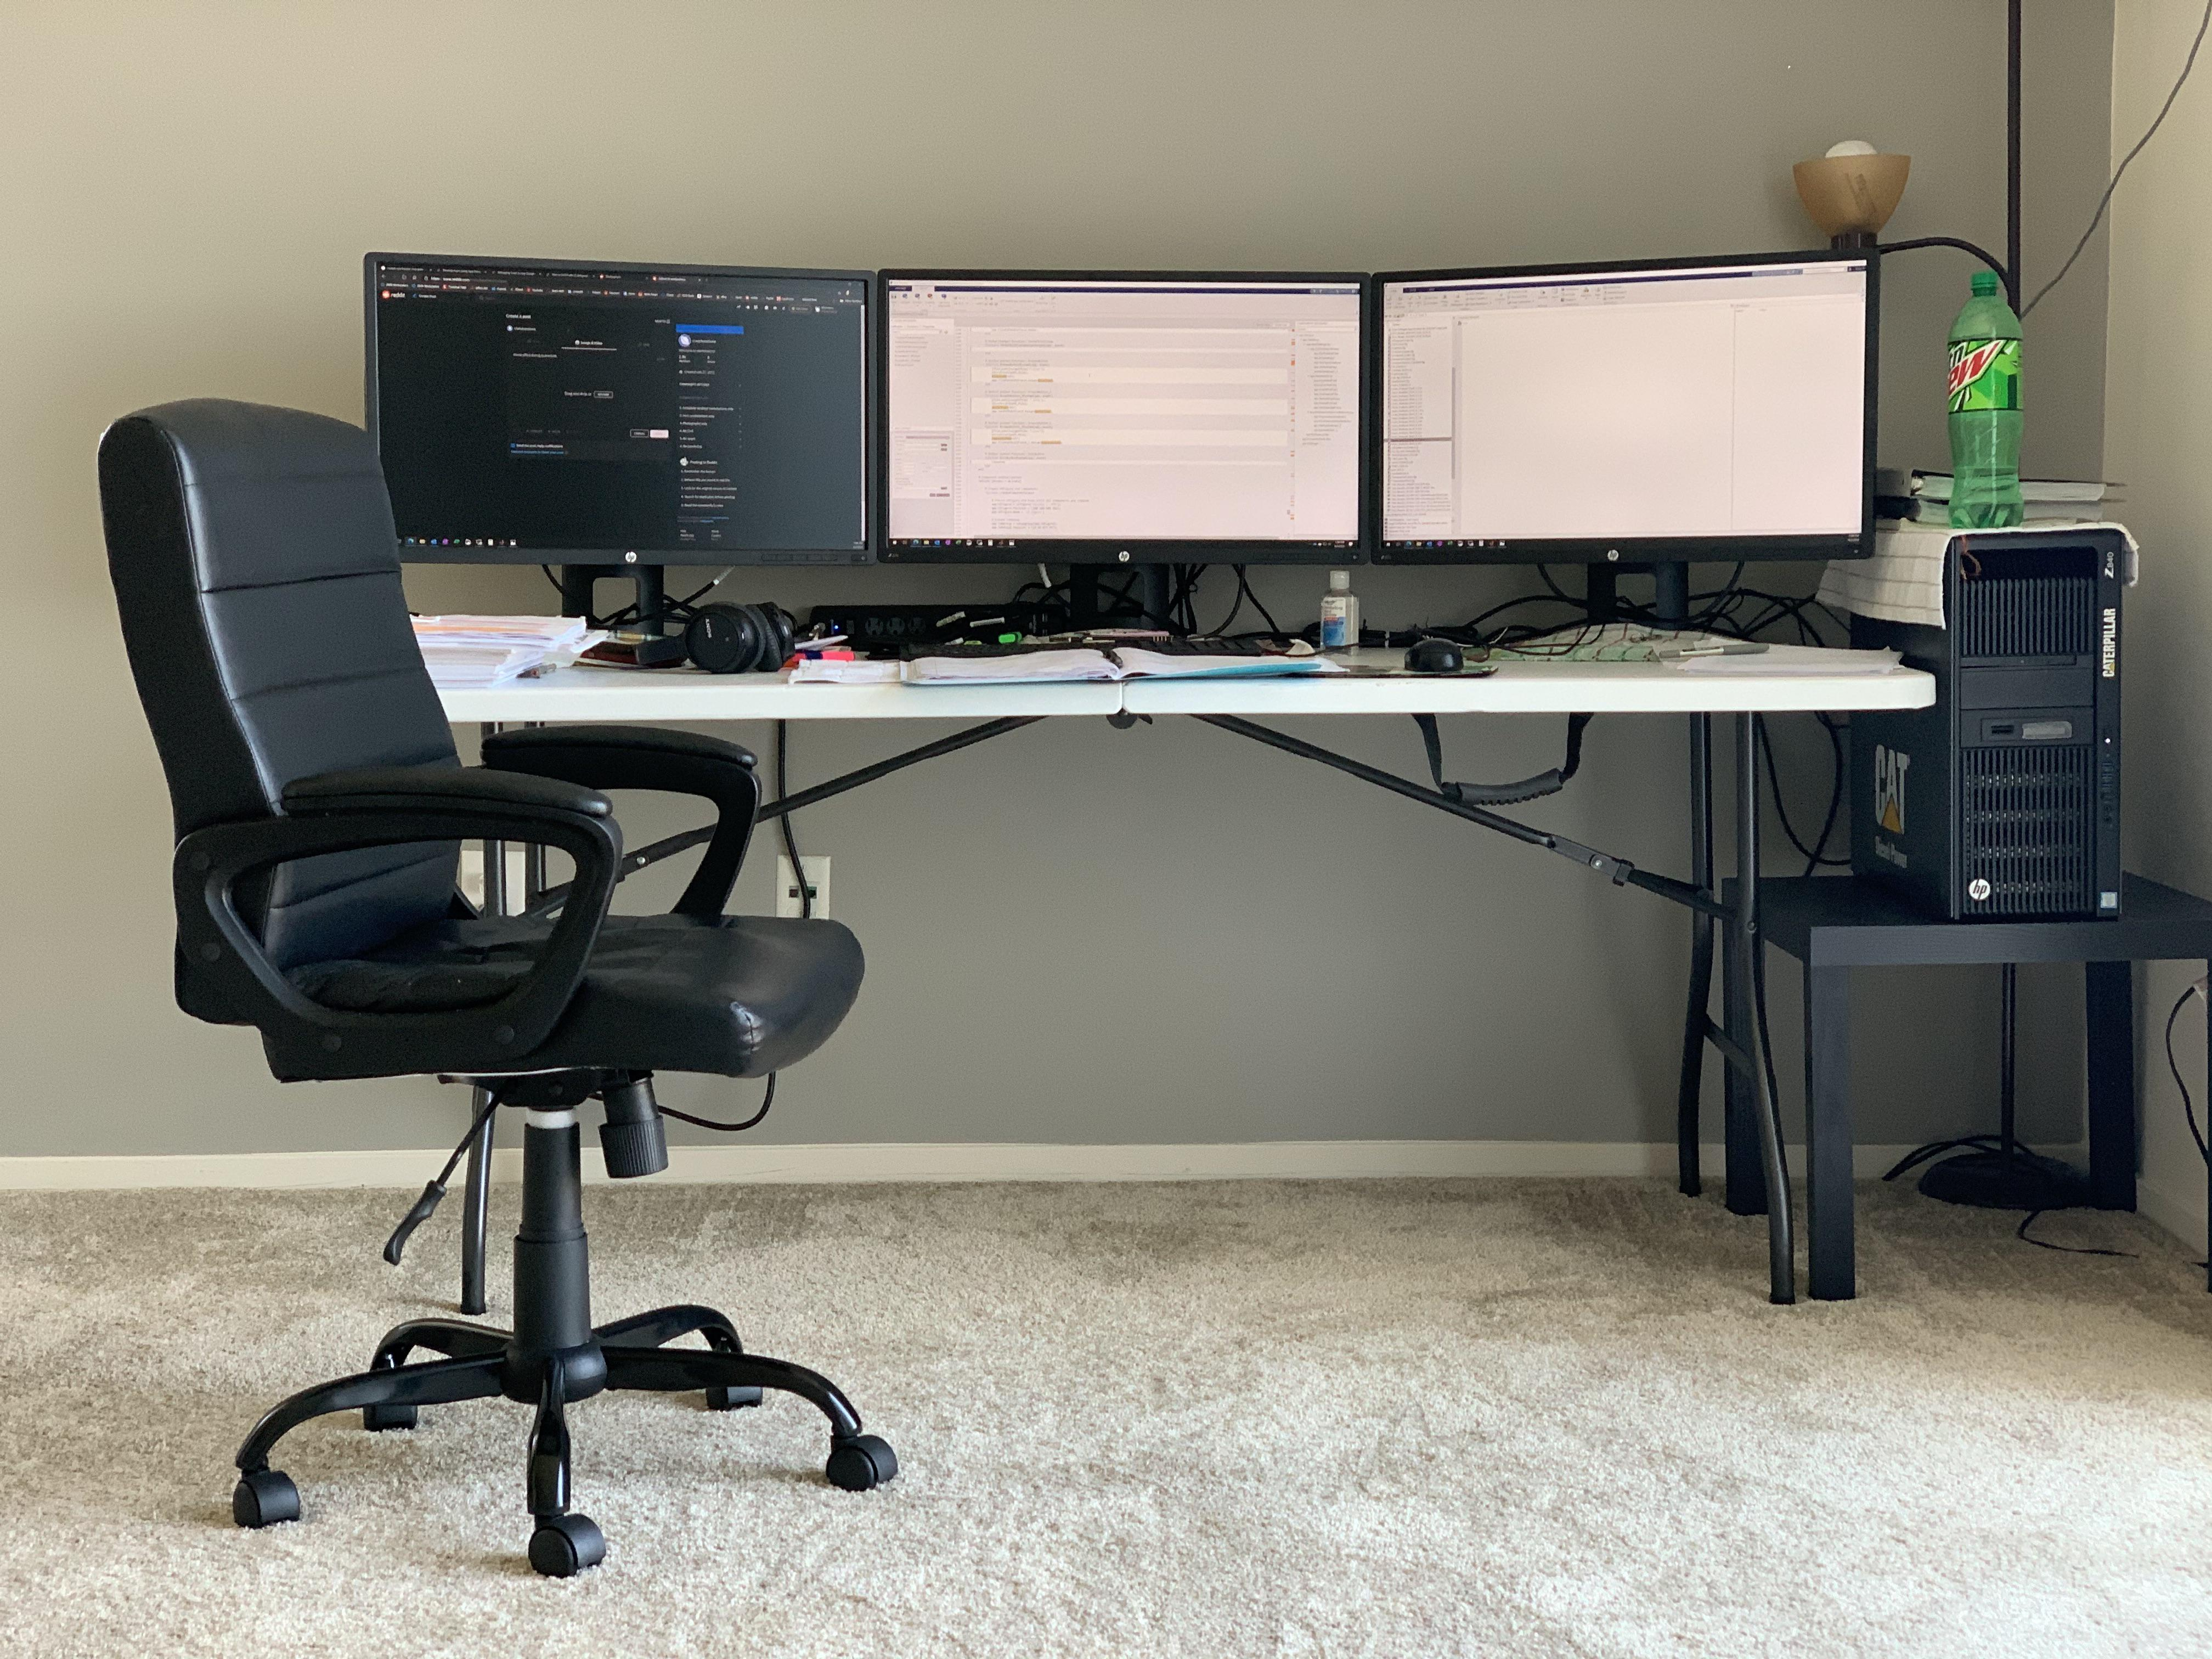Chair (Generic): (89, 387, 953, 1595)
Desk (Generic): (282, 577, 1980, 1295)
Desktop (Windows): (1841, 502, 2156, 939)
Headphones: (597, 591, 803, 681)
Keyboard (Generic): (888, 629, 1291, 664)
Lamp (Floor): (1785, 103, 2175, 1260)
Monitor (Landscape): (1350, 235, 1895, 591), (343, 242, 883, 584), (867, 256, 1379, 565)
Mouse (Generic): (1395, 629, 1468, 674)
Power Strip: (798, 589, 1066, 655)
Water Bottle: (1925, 258, 2041, 538)
